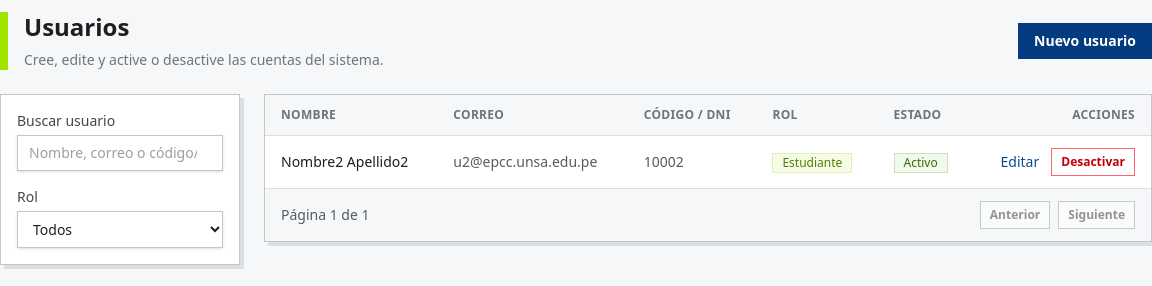
Test: UserListPage › avisa cuando la búsqueda no encuentra a nadie
The image size is (1152, 286).
Expected: the text "Nombre2 Apellido2" is shown, 265,136 -> 437,188
Type "zzz" into the search field labelled "Buscar usuario" at (120, 153), box 17,135 -> 223,171
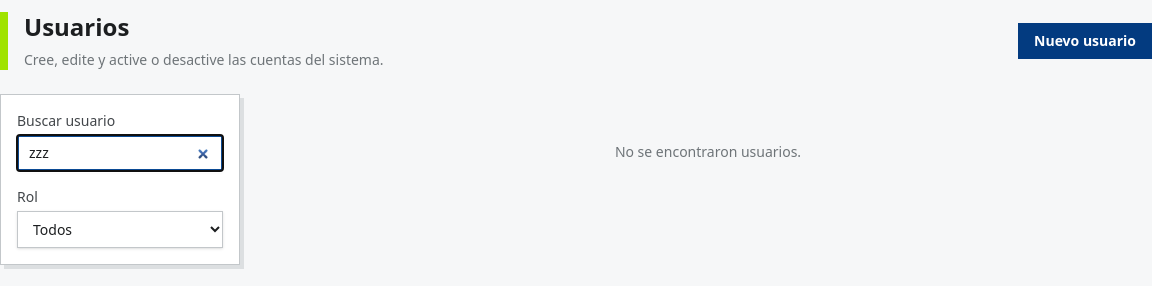
Expected: the text "No se encontraron usuarios." is shown, 615,142 -> 801,161
